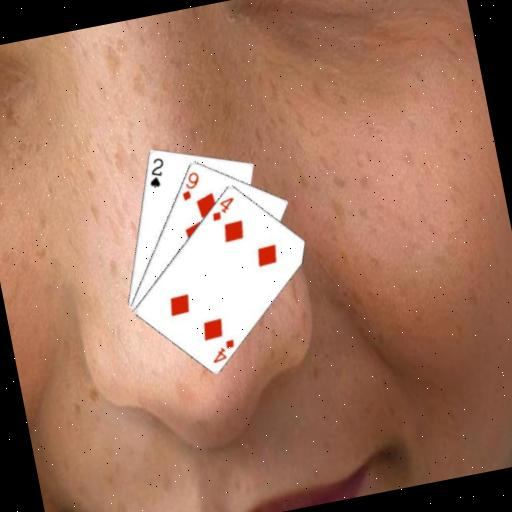2S: (142, 154, 169, 191)
4D: (206, 335, 239, 366), (206, 193, 239, 223)
9D: (174, 167, 204, 203)
